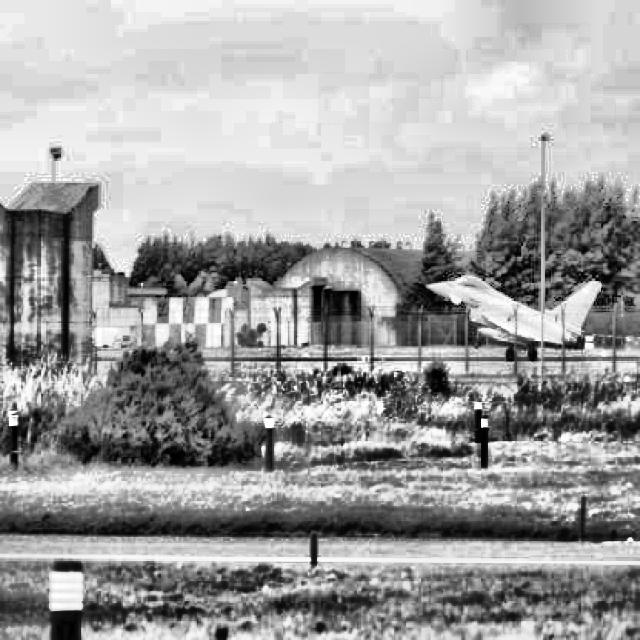EF2000: (424, 274, 602, 360)
